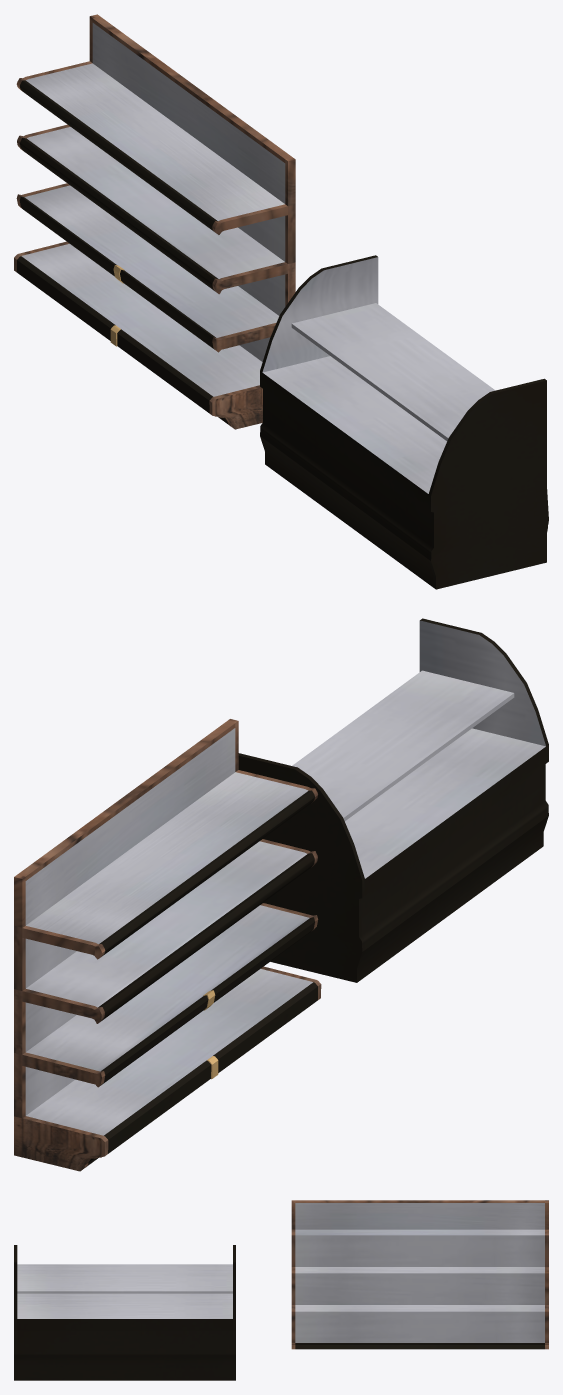
Rendered from moreFurniture2.fbx.
3 views of the same model, one above another, from view 1: azimuth 30°, elevation 25°; view 2: azimuth 150°, elevation 25°; view 3: azimuth 270°, elevation 25° (orthographic). The views are drawn at different scales.
Visible parts, largest first — view 1: showcase3, showcaseBig1; view 2: showcase3, showcaseBig1; view 3: showcase3, showcaseBig1.
Boxes of the visible parts, box(x1,y1,x2,y2) form: showcase3: box(14, 14, 295, 429); showcaseBig1: box(260, 255, 548, 589); showcase3: box(14, 719, 321, 1171); showcaseBig1: box(238, 618, 548, 982); showcase3: box(291, 1200, 548, 1349); showcaseBig1: box(14, 1245, 235, 1380).
Size of the model in its own units: 48.4 by 95.49 by 279.
